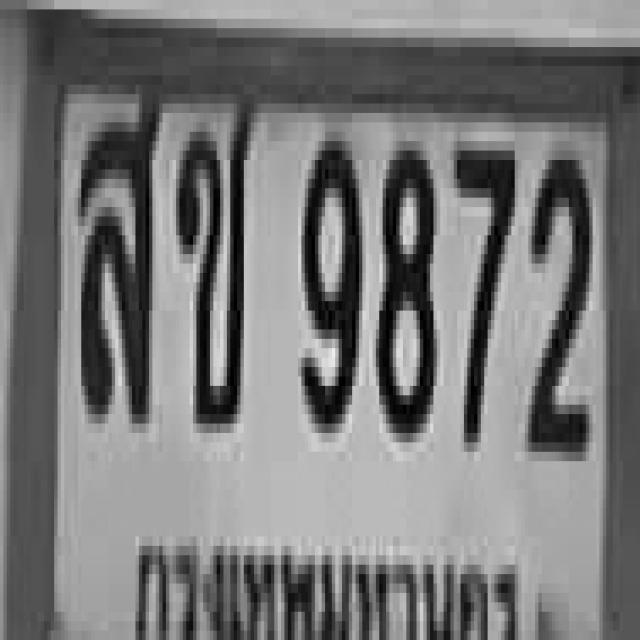19ChorChang: (175, 104, 252, 424)
2: (523, 146, 588, 447)
49SorSuea: (76, 94, 158, 414)
7: (451, 142, 512, 442)
8: (376, 141, 433, 433)
9: (298, 132, 359, 424)
